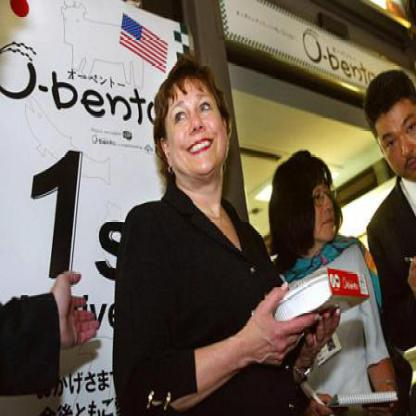face: (162, 63, 228, 182), (295, 152, 343, 247)
